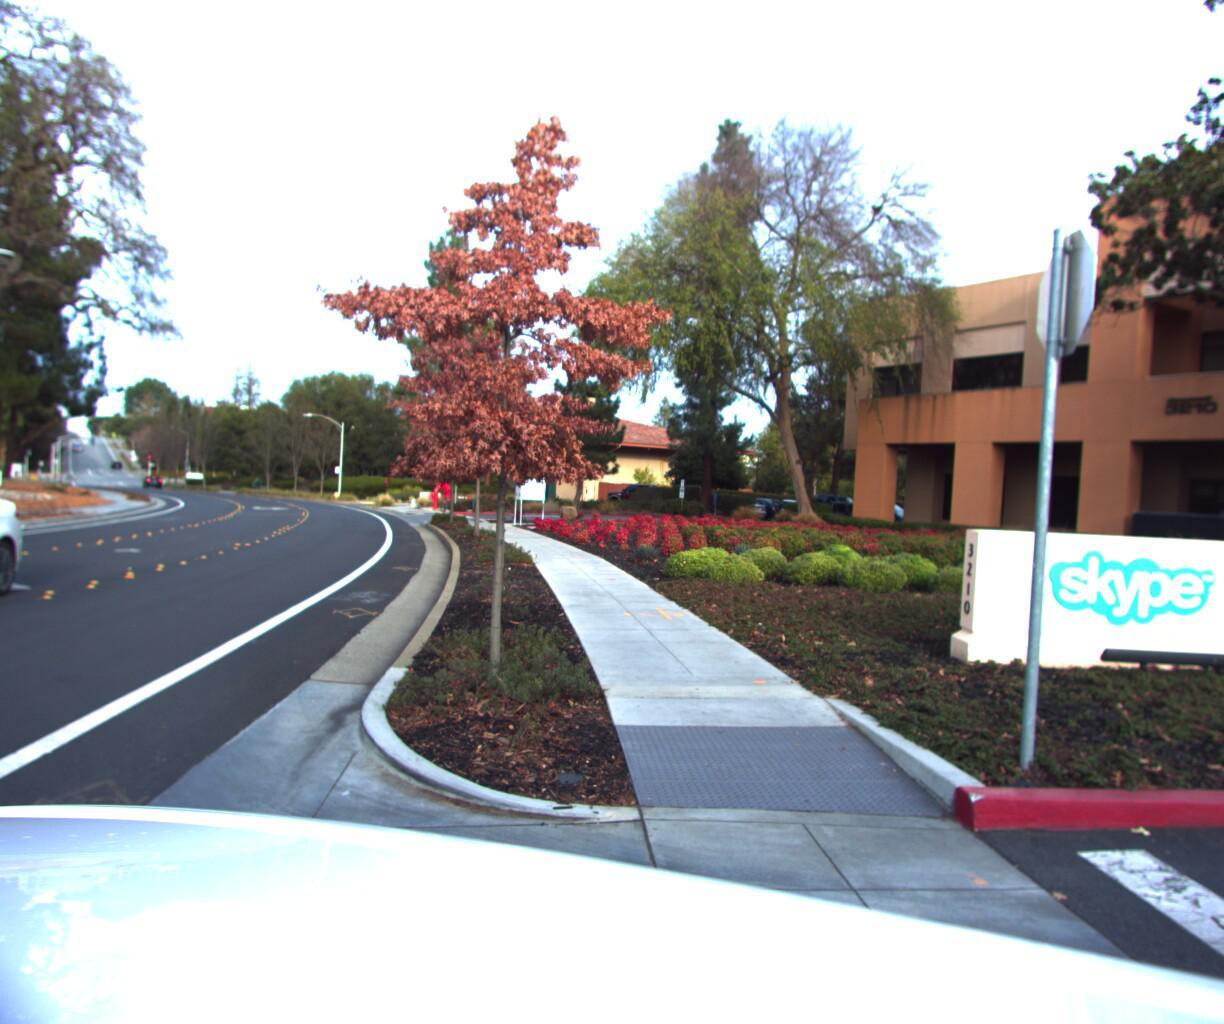car: (0, 455, 50, 674)
